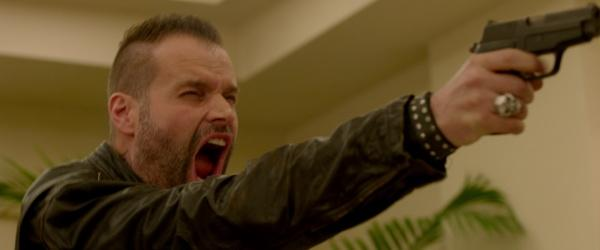Gun: (472, 3, 600, 85)
